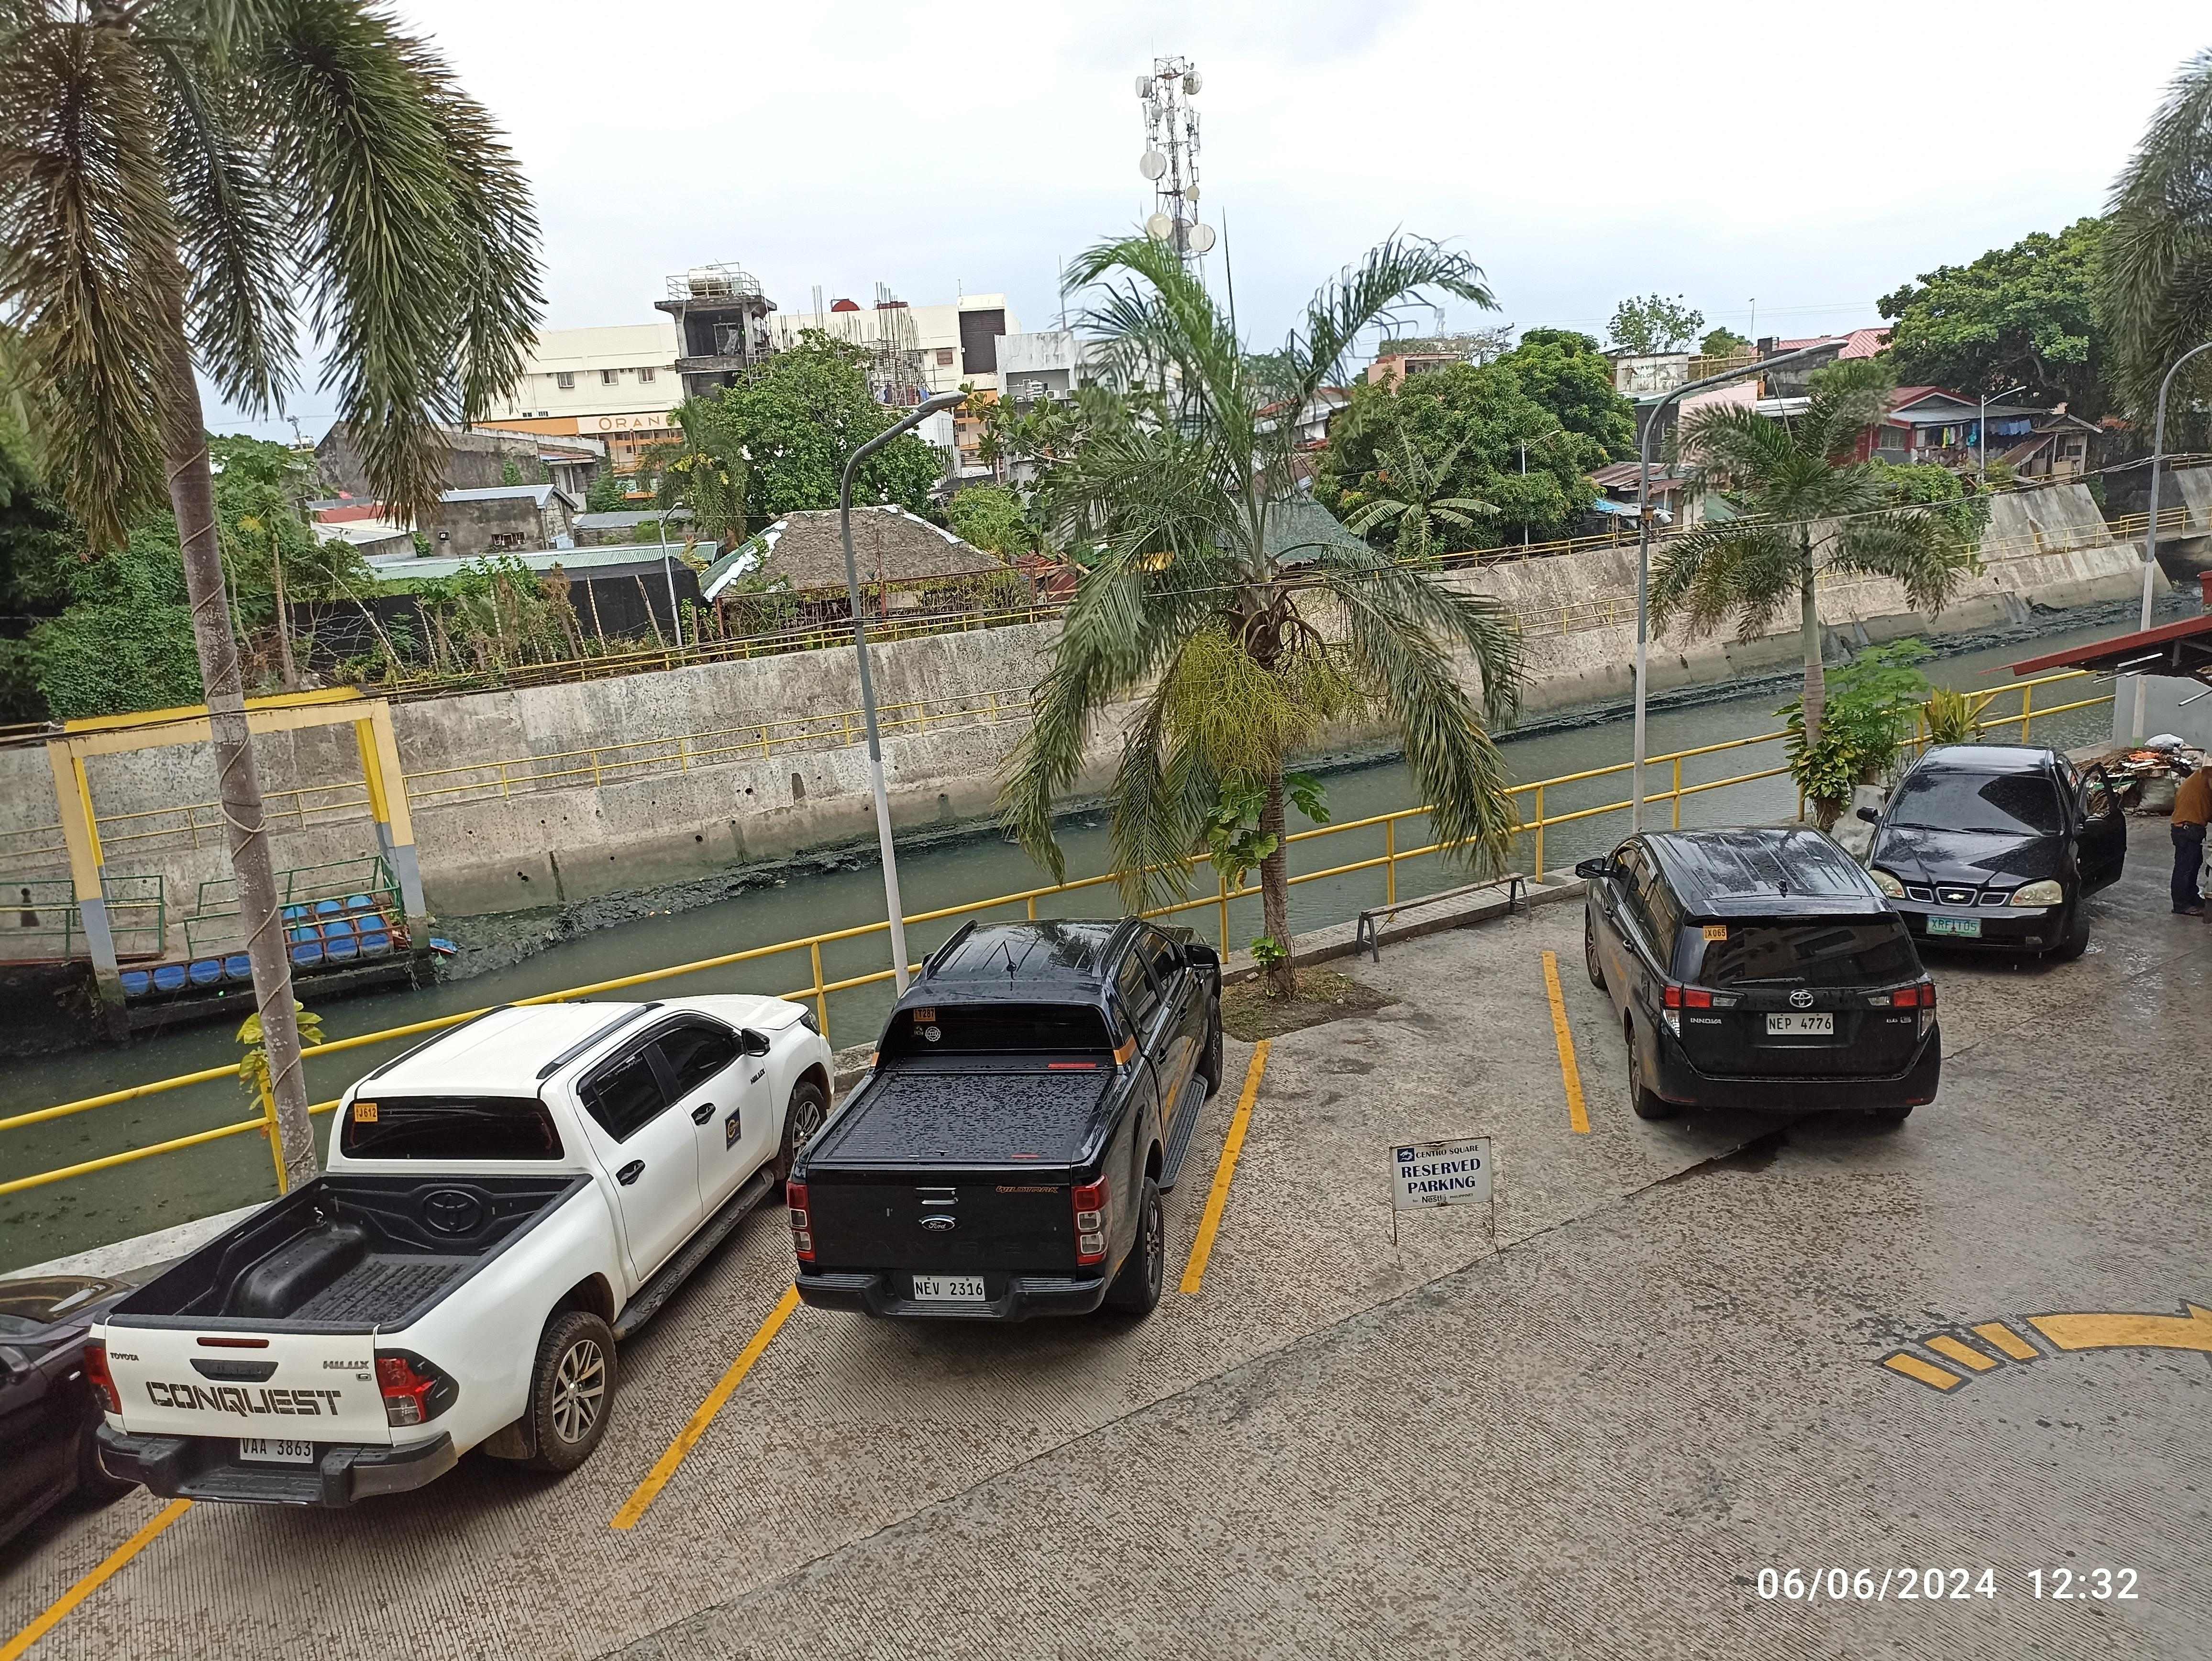occupied: (602, 1036, 1272, 1537)
vacant: (1179, 947, 1591, 1295)
